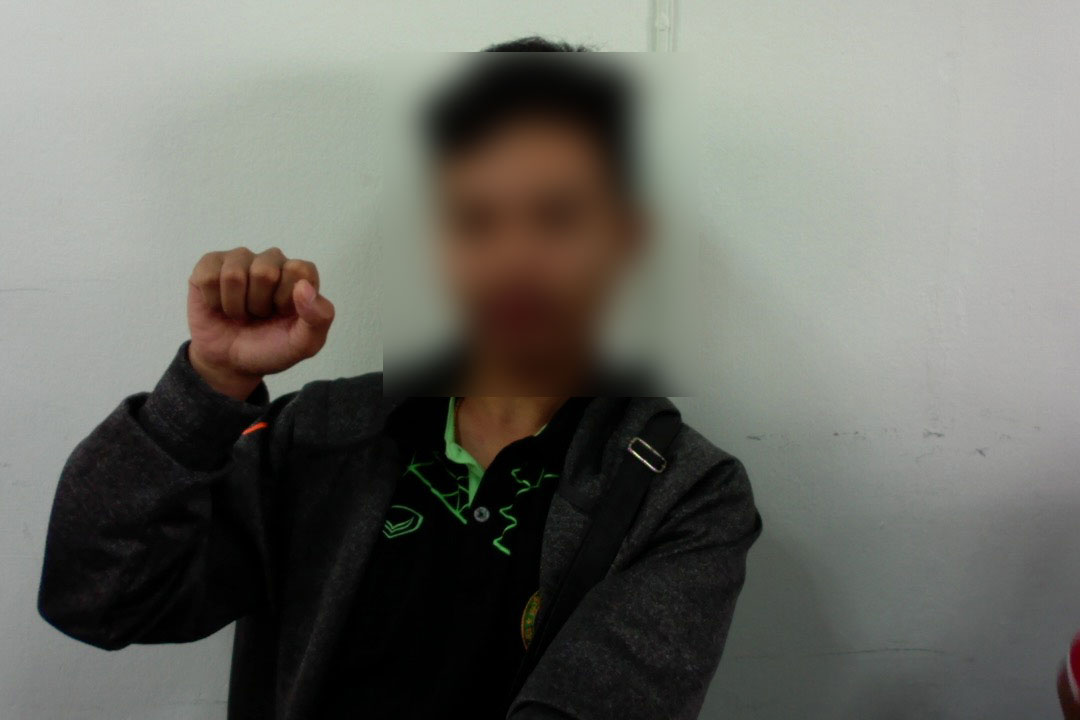sor: (180, 238, 341, 387)
